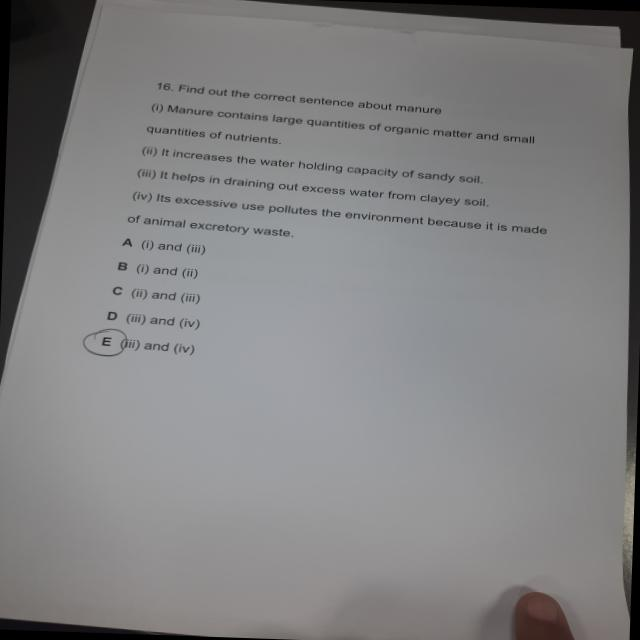E: (80, 327, 130, 362)
